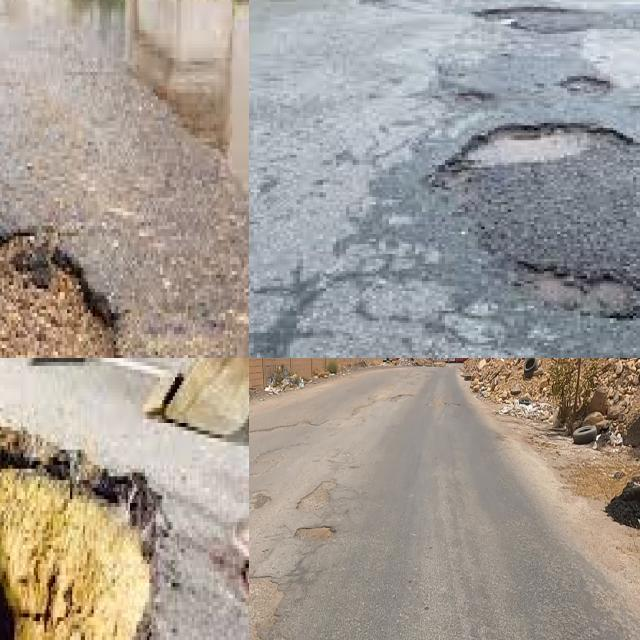Pothole: (0, 418, 158, 640), (0, 236, 122, 358), (435, 123, 640, 175), (514, 261, 640, 321), (297, 480, 336, 511), (295, 527, 332, 540), (391, 395, 412, 403)
